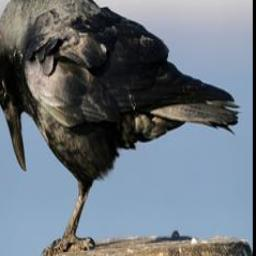Crow: (0, 0, 241, 256)
